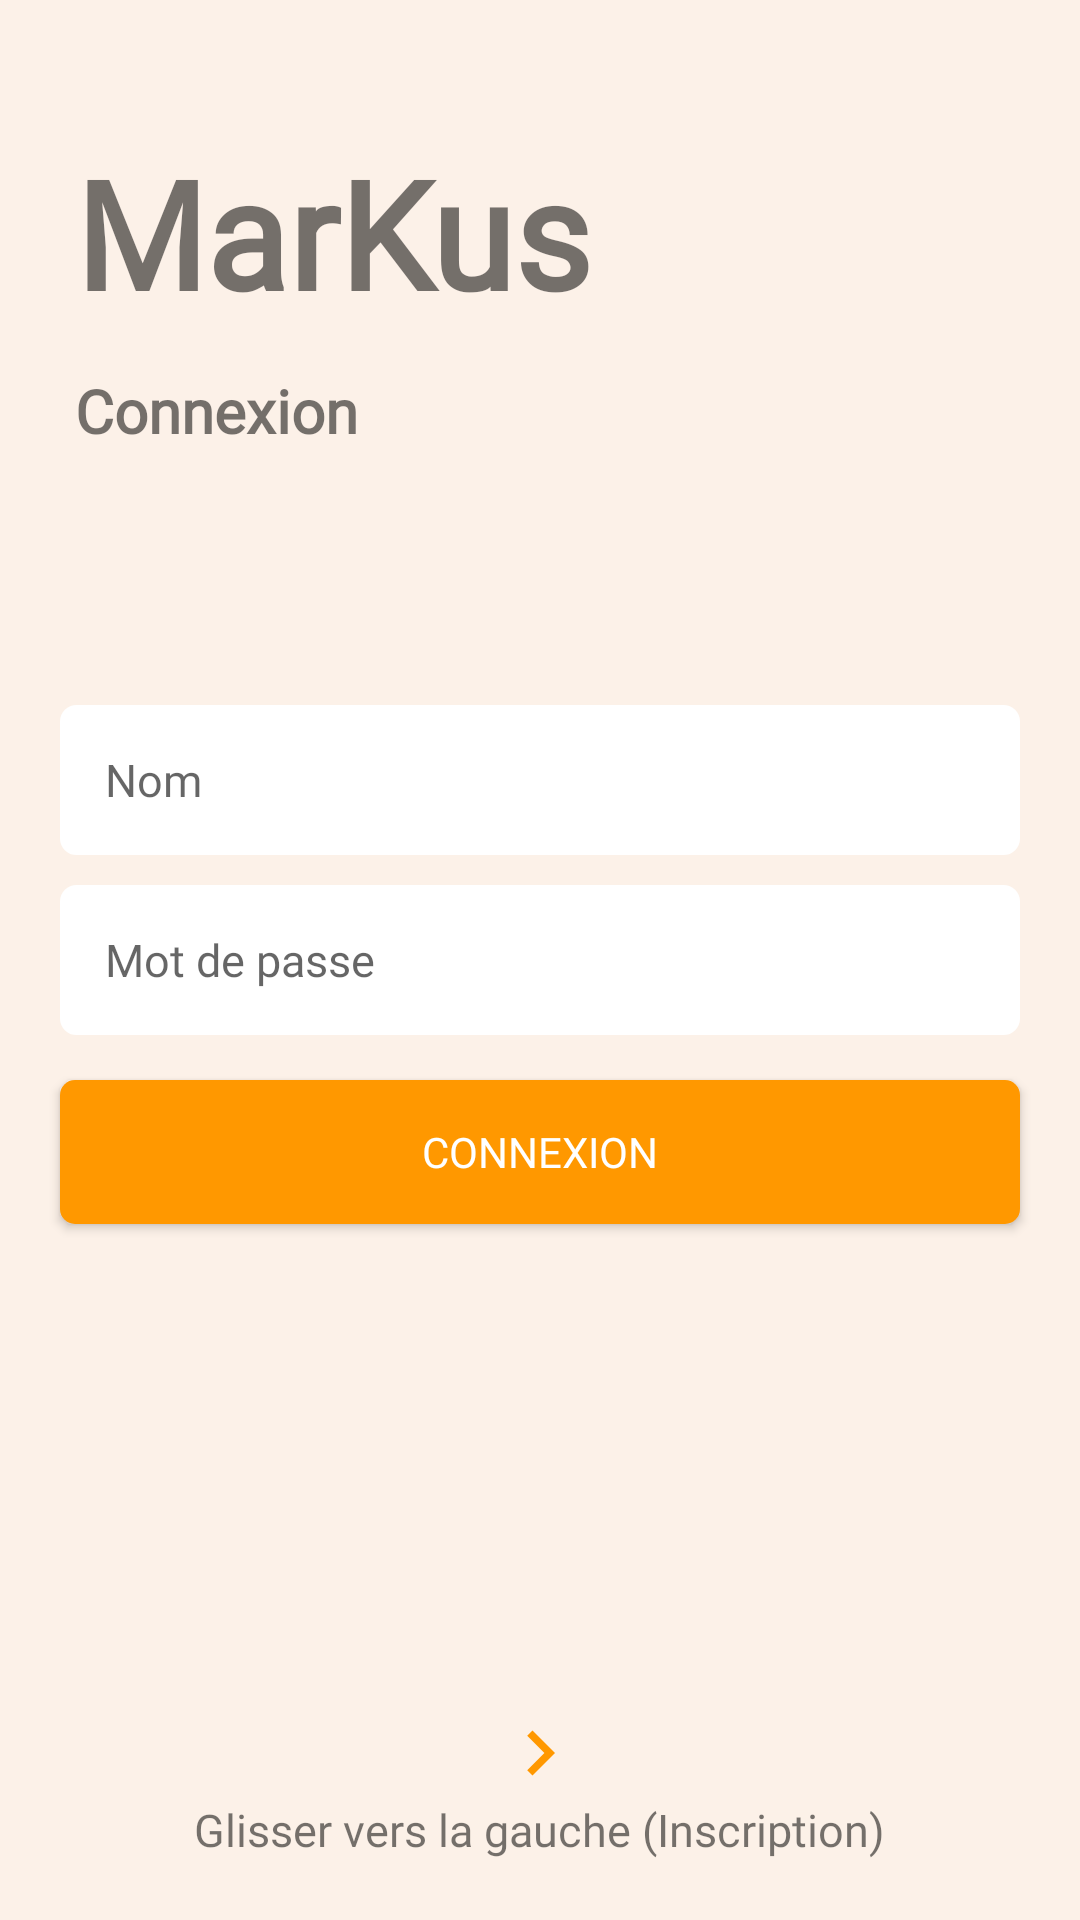

Named icons in this screenshot (1080 × 1920) and their bounding boxes, (x1=x1, y1=y1, x2=x2, y2=y2):
fleche droit: (x1=527, y1=1730, x2=555, y2=1776)
